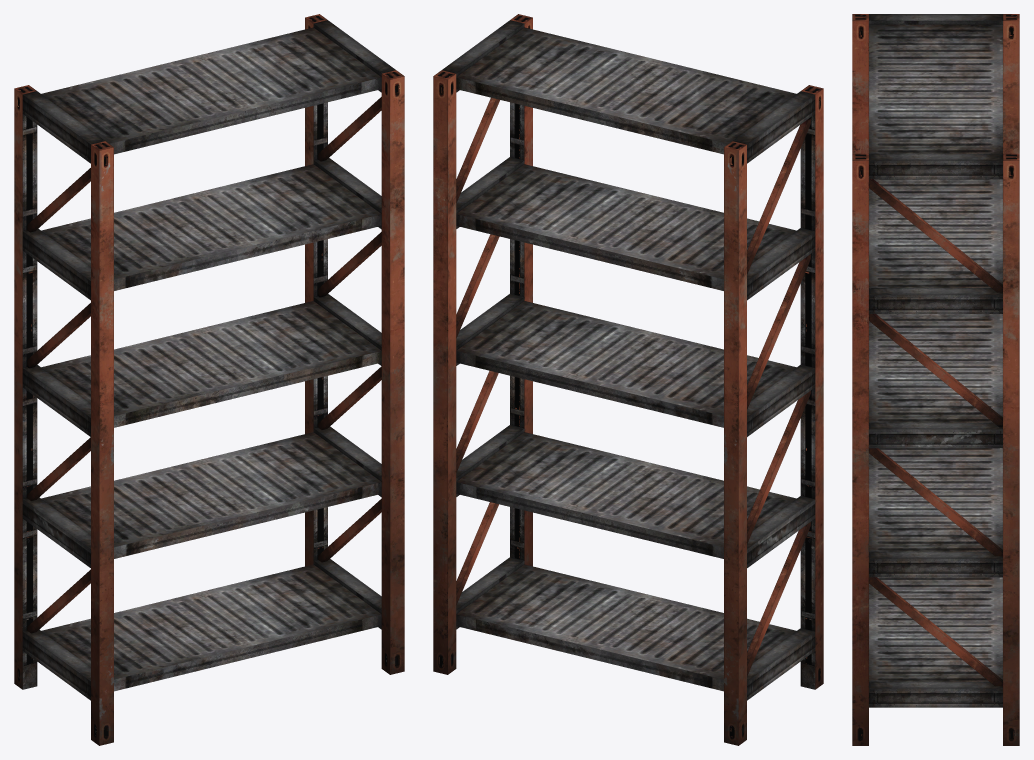
The model's file is shelf_community_room.dae.
3 renders of one model, left to right at view 1: azimuth 30°, elevation 25°; view 2: azimuth 150°, elevation 25°; view 3: azimuth 270°, elevation 25°, orthographic.
Visible parts, largest first — view 1: Mesh; view 2: Mesh; view 3: Mesh.
Boxes of the visible parts, x1=… form: Mesh: x1=14, y1=14, x2=404, y2=745; Mesh: x1=433, y1=14, x2=823, y2=745; Mesh: x1=852, y1=14, x2=1019, y2=745.
Bounding box in the file's own units: 1.32 × 2.46 × 0.6363.
